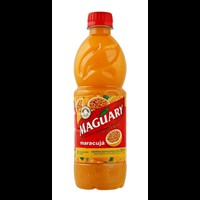maguary: (66, 9, 133, 193)
